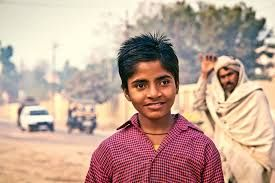no-mask: (114, 32, 186, 121), (207, 59, 247, 94)
